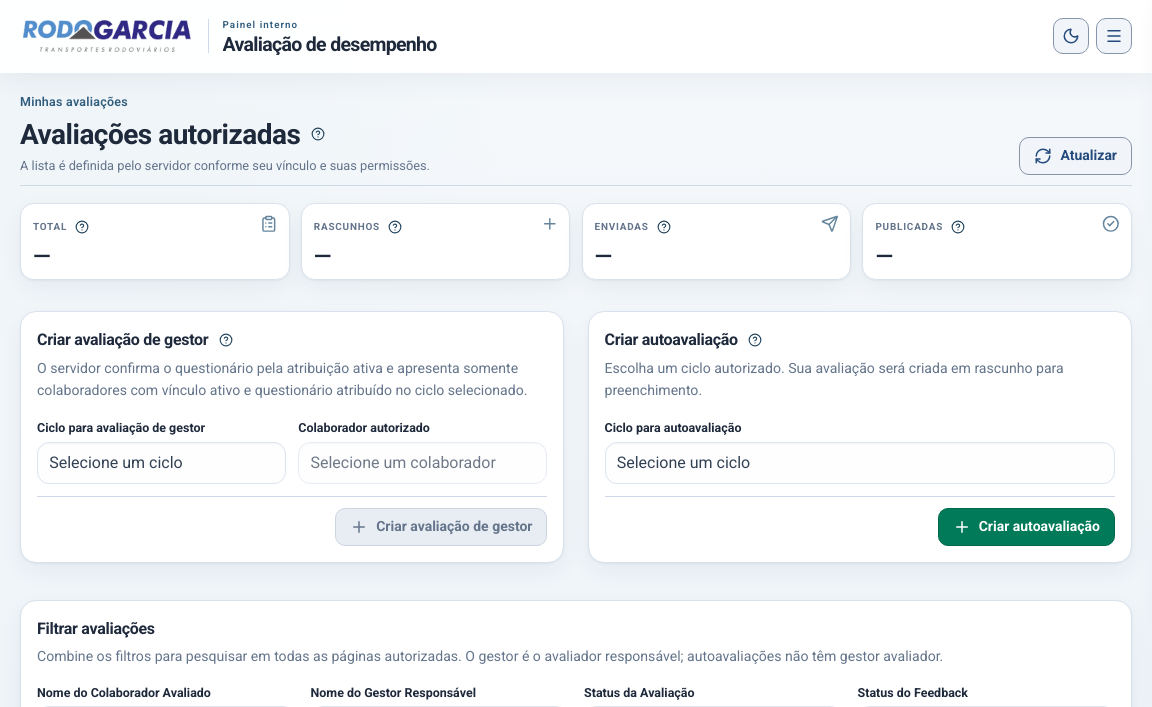
Scenario: App › GESTOR: remove a opção de AUTOAVALIACAO após criar e voltar pela navegação real
Expected: the dropdown labelled "Ciclo para avaliação de gestor" is shown, [37,442,286,484]
Select "Ciclo fictício dos perfis" in the dropdown labelled "Ciclo para autoavaliação" at {"x": 860, "y": 463}, box [604,442,1115,484]
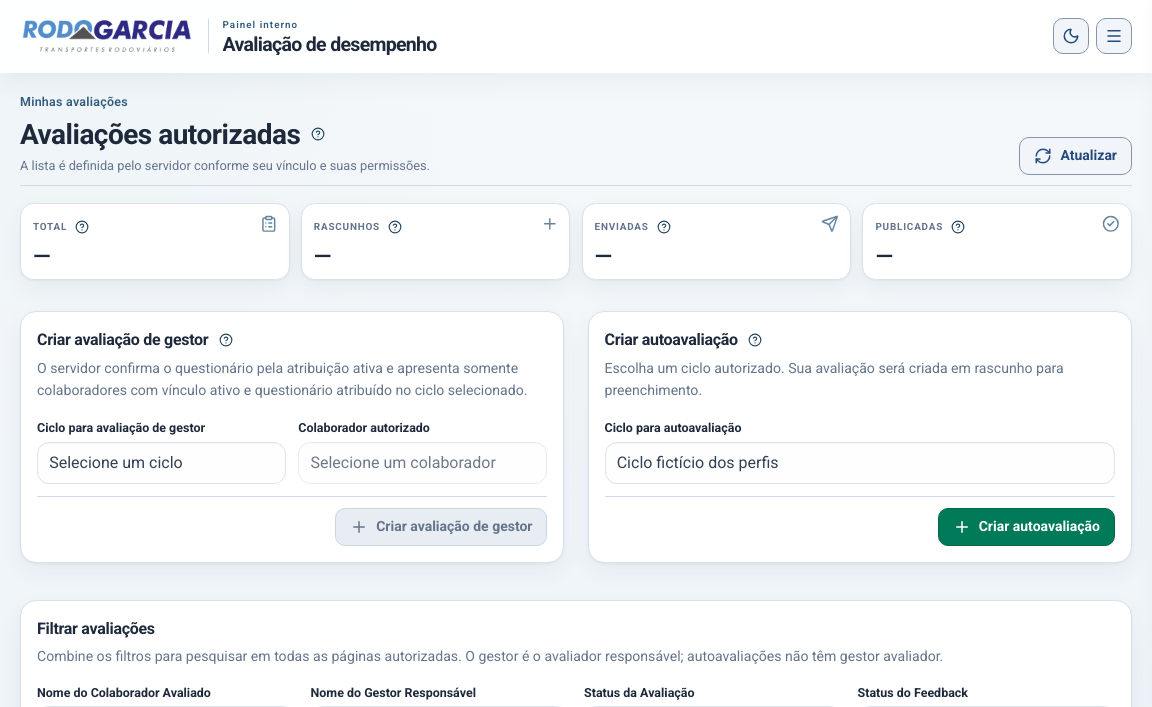
Click the button "Criar autoavaliação" at {"x": 1026, "y": 527}, box [938,508,1115,546]
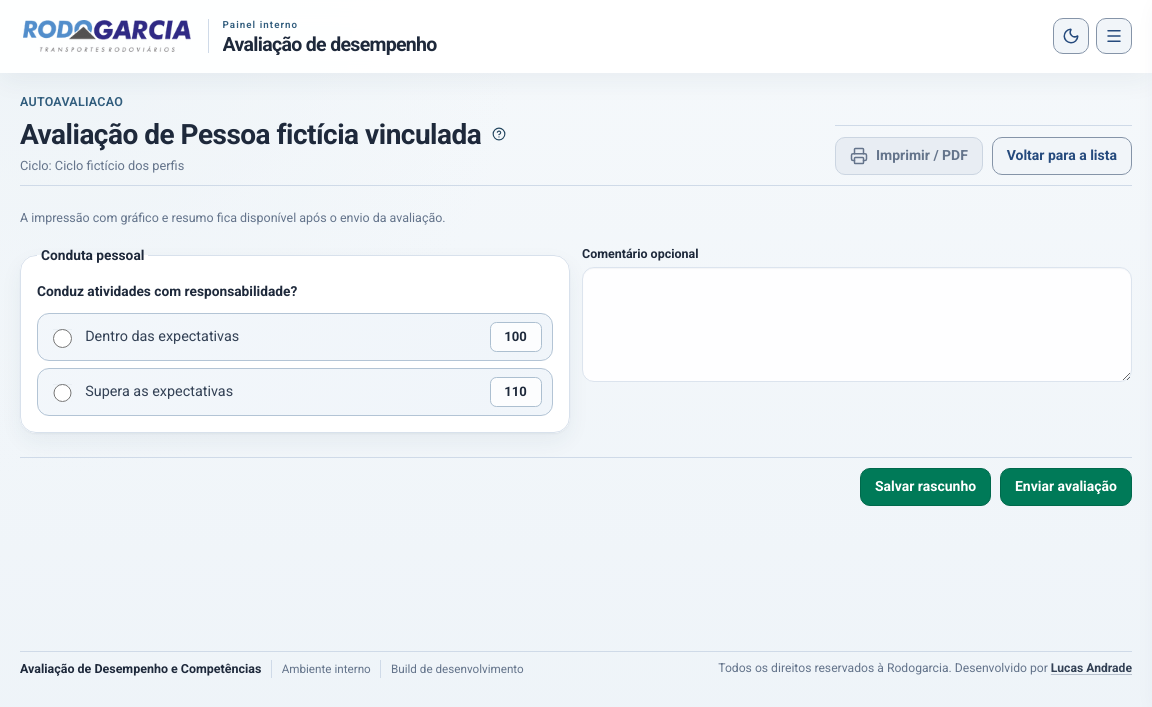
Click the button "Voltar para a lista" at {"x": 1062, "y": 156}, box [992,137,1132,175]
(page scrolled)
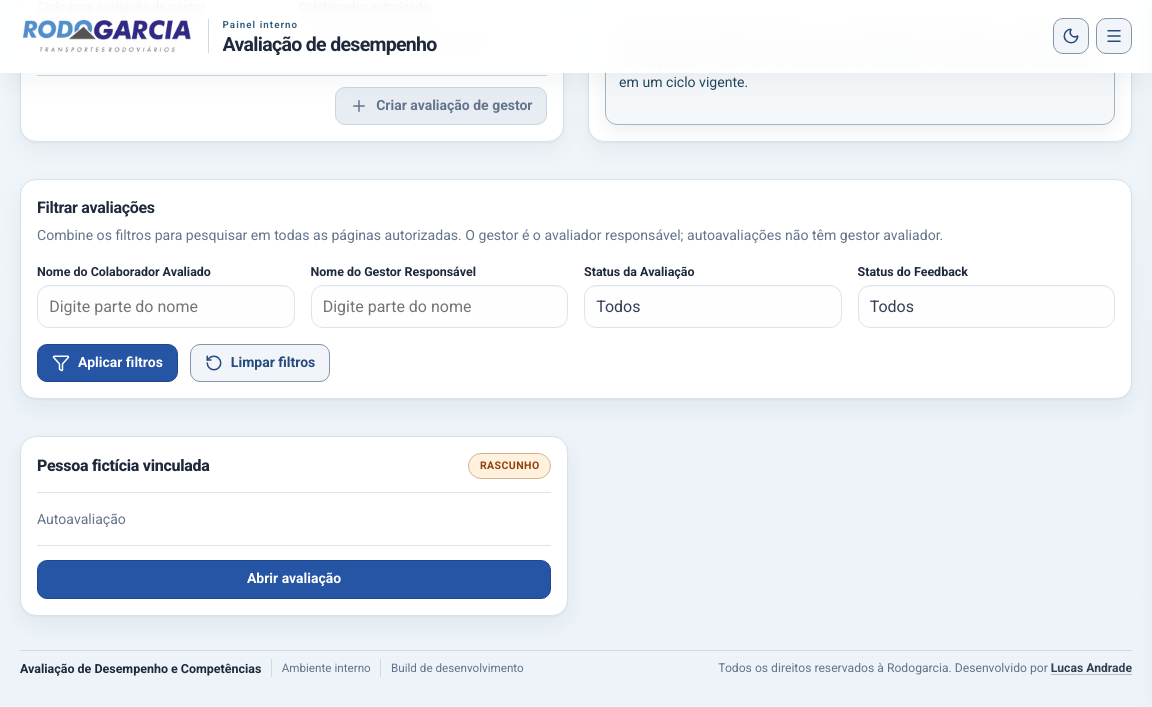
Expected: the dropdown labelled "Ciclo para avaliação de gestor" is enabled, [37,21,286,63]
Expected: the button "Abrir avaliação" is shown, [37,560,551,599]
